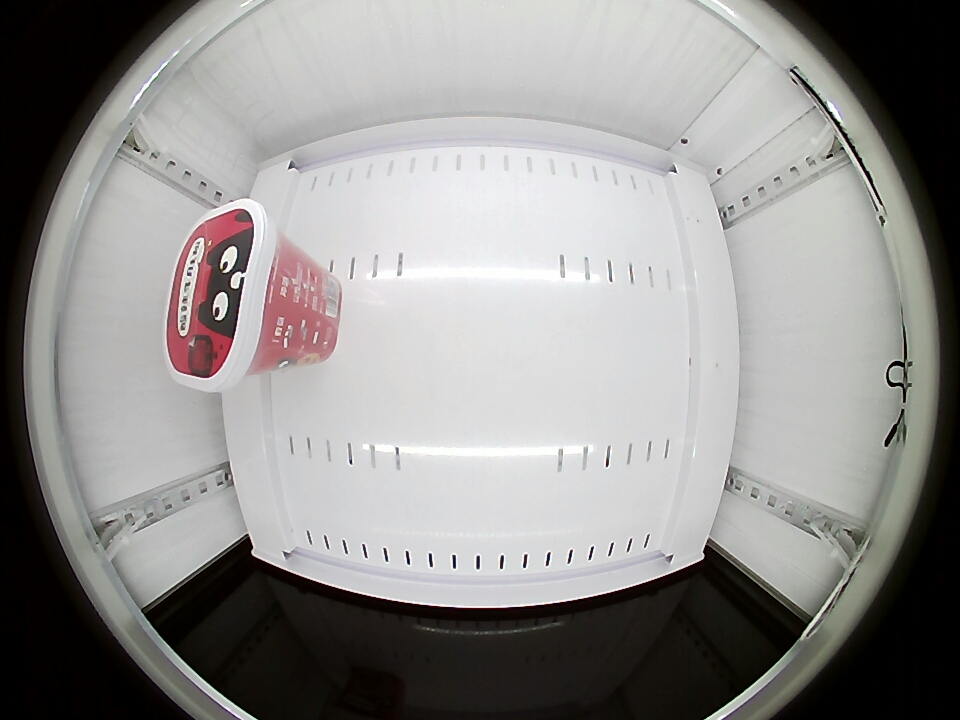niudufen: (166, 198, 292, 389)
